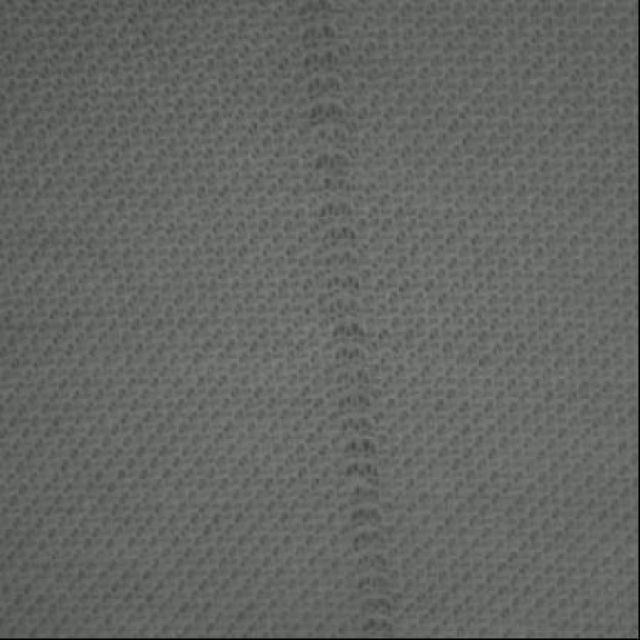Line: (298, 0, 396, 638)
